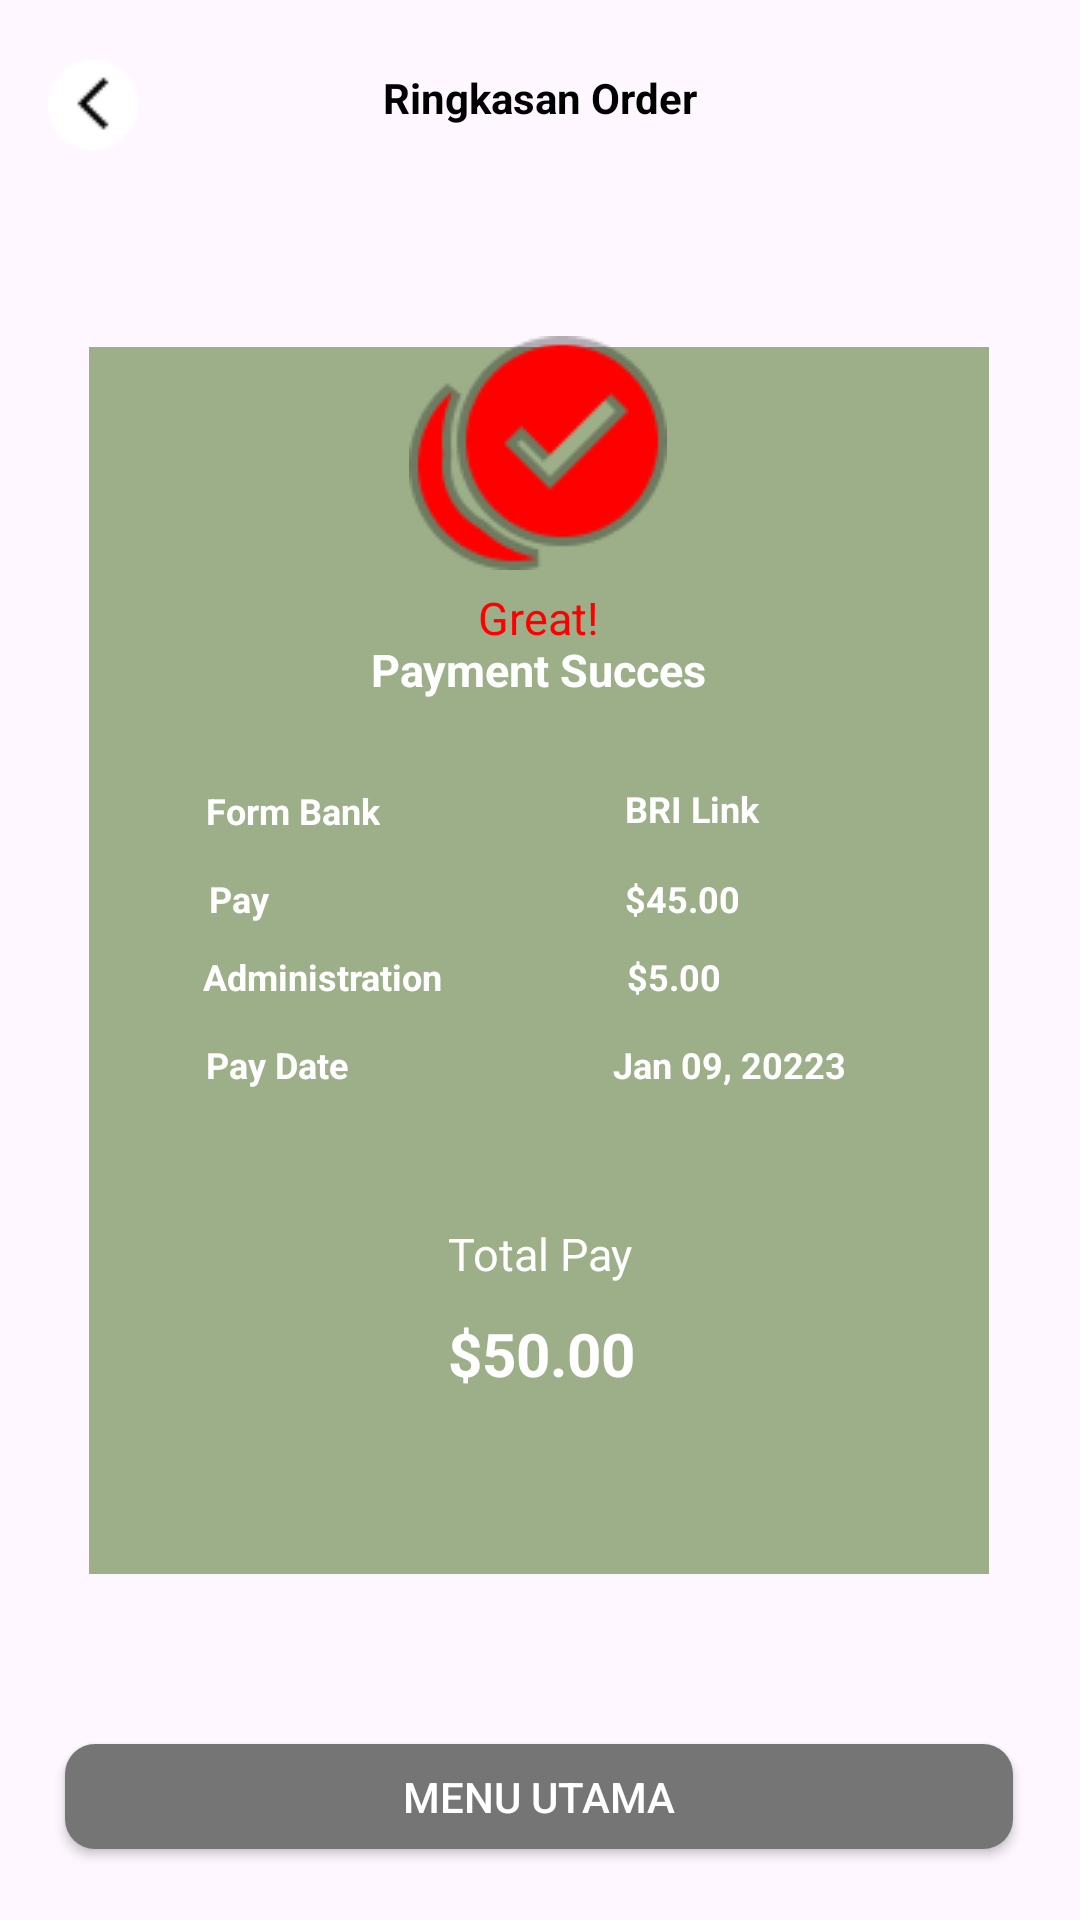

Icon bounding boxes for this 1080px x 1920px phone screenshot, format (x1, y1, x2, y2):
arrow back: (77, 77, 109, 130)
